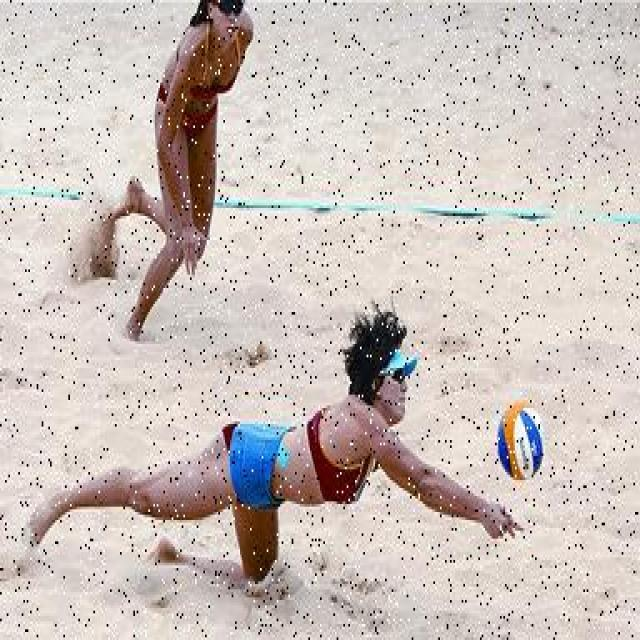fall: (27, 312, 523, 576)
